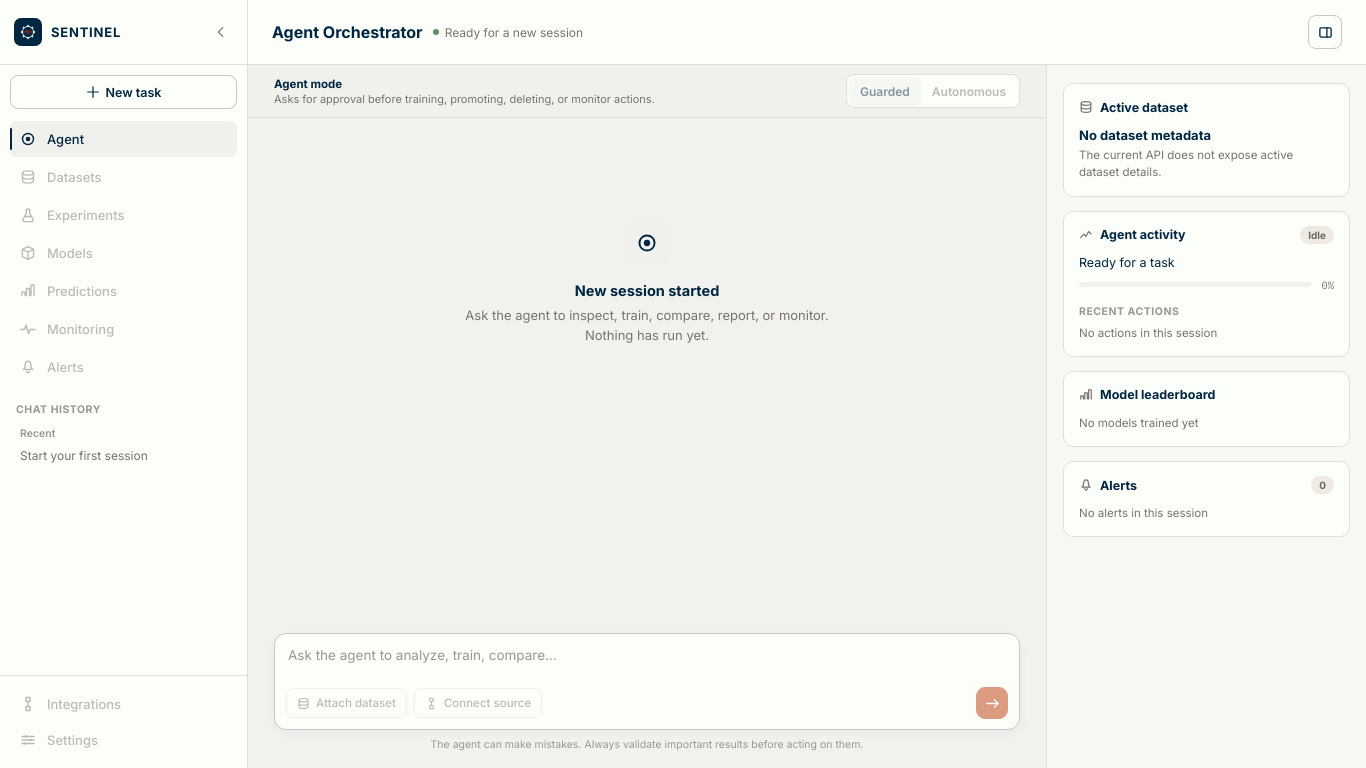
App new-session streaming › does not abort the first SSE stream when the new thread id arrives
This screenshot has width=1366, height=768.
Type "Can you see the leaderboard?" into the text box with placeholder "Ask the agent to analyze, train, compare…" at (647, 665), box [286,643,1008,687]
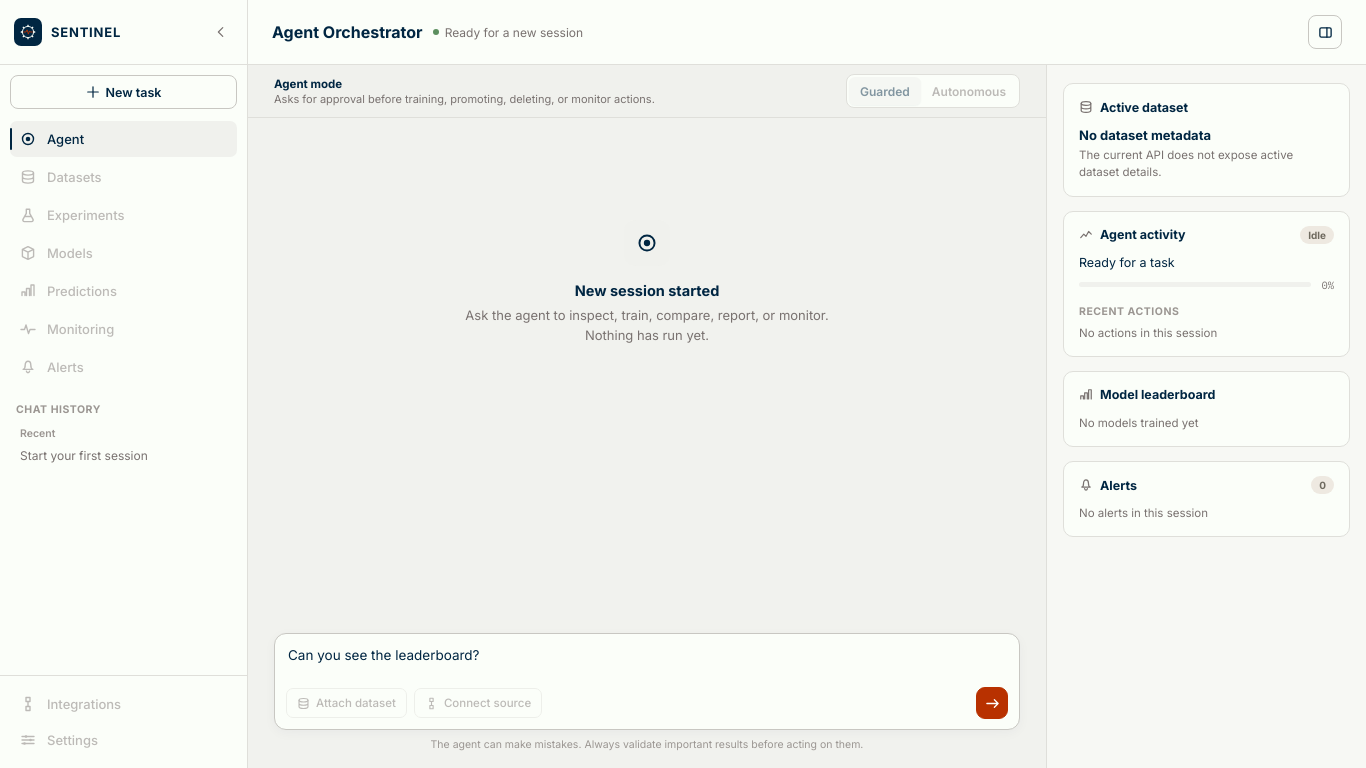
Click the button named "Send message" at (992, 703), box [976,687,1008,719]
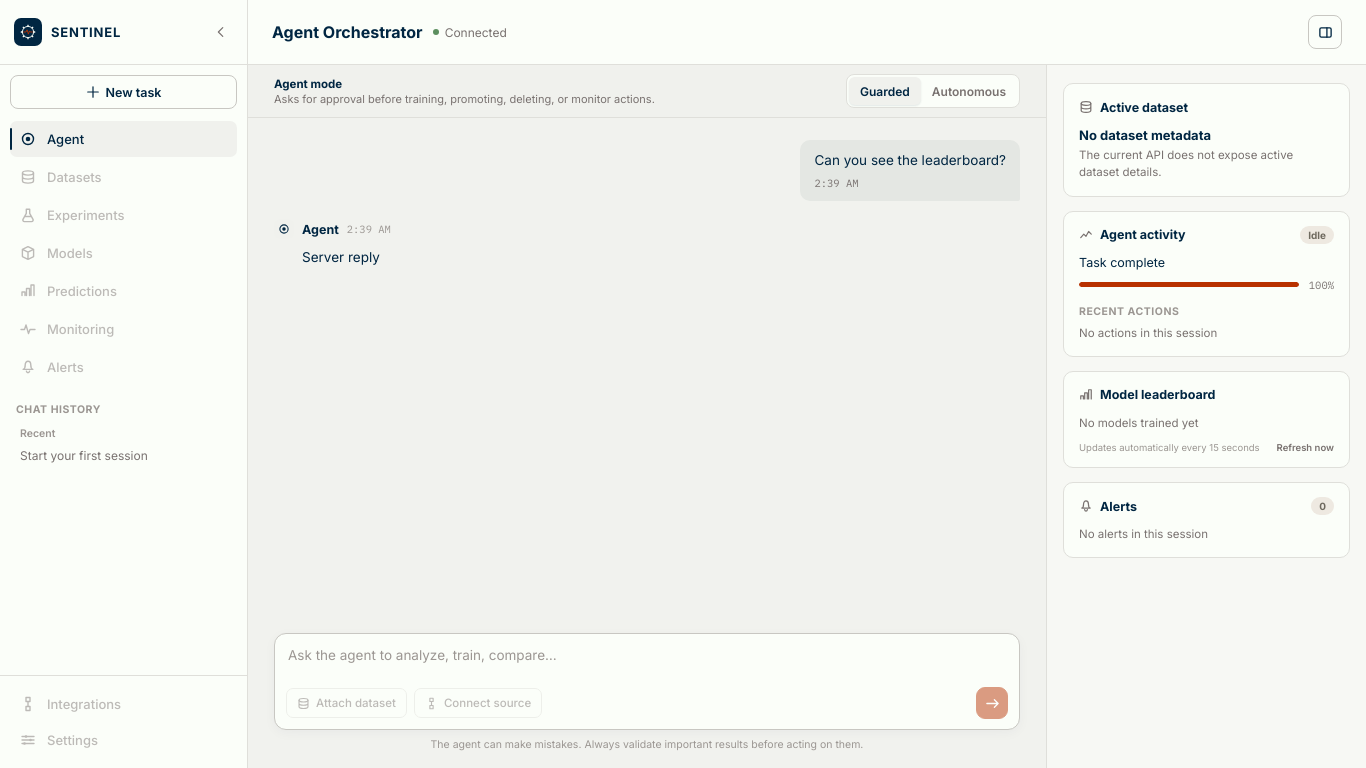
Result: the text "Server reply" is shown at [302,249,380,265]
